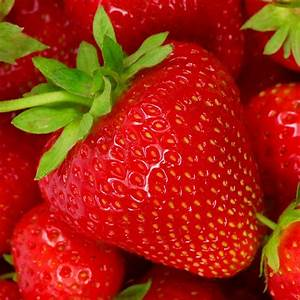Fresa: (31, 32, 272, 284)
